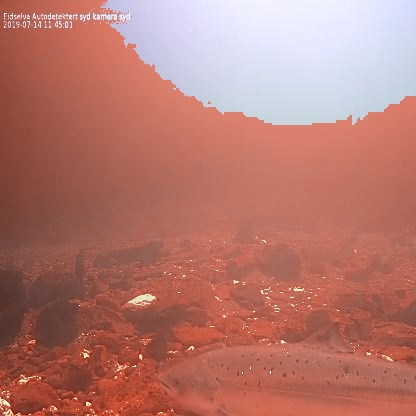salmon: (154, 316, 416, 416)
